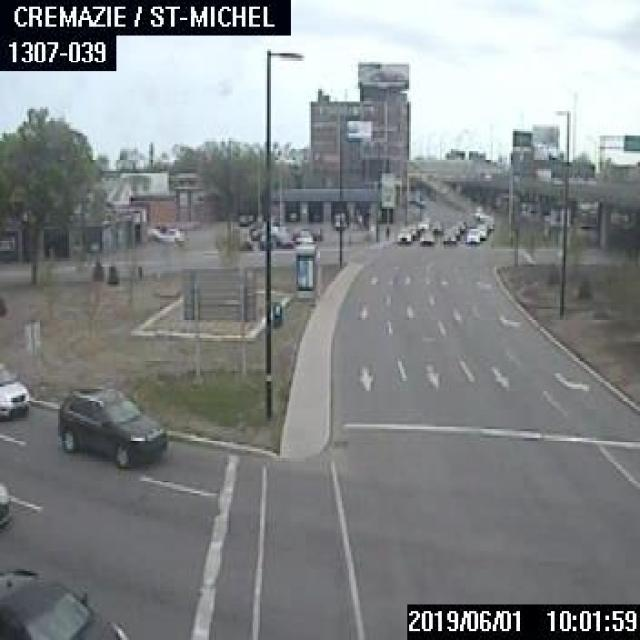vehicle: (0, 560, 125, 638), (56, 384, 171, 466), (0, 358, 31, 422), (154, 227, 185, 244), (0, 476, 9, 526), (417, 229, 435, 244), (394, 226, 410, 242), (464, 227, 479, 243), (440, 228, 455, 242), (474, 222, 486, 237), (449, 222, 459, 238), (430, 218, 440, 232), (455, 218, 465, 230)
